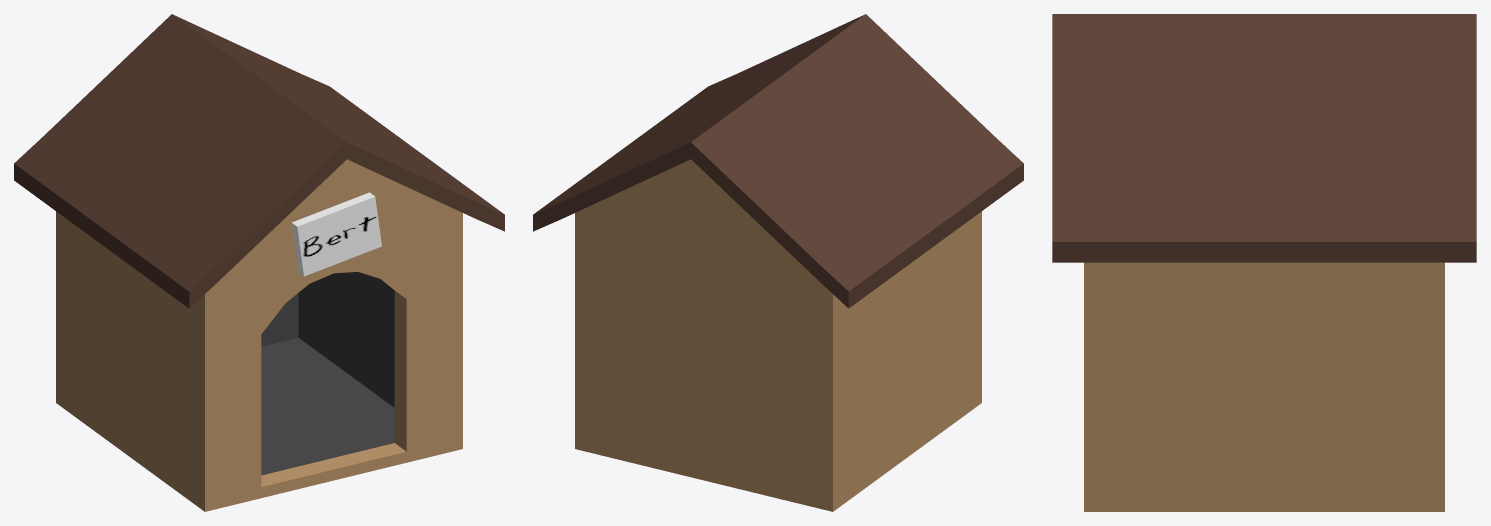
The model's file is bert_house.glb.
3 renders of one model, left to right at view 1: azimuth 30°, elevation 25°; view 2: azimuth 150°, elevation 25°; view 3: azimuth 270°, elevation 25°, orthographic. The views are drawn at different scales.
Parts seen in each view (by area): view 1: BertHouse; view 2: BertHouse; view 3: BertHouse.
Boxes of the visible parts, x1,y1,x2,y2 form: BertHouse: (14, 14, 504, 511); BertHouse: (533, 14, 1023, 511); BertHouse: (1052, 14, 1476, 511).
Size of the model in its own units: 2.45 by 2.58 by 2.35.
Materials: 4 (1 with a texture image).
